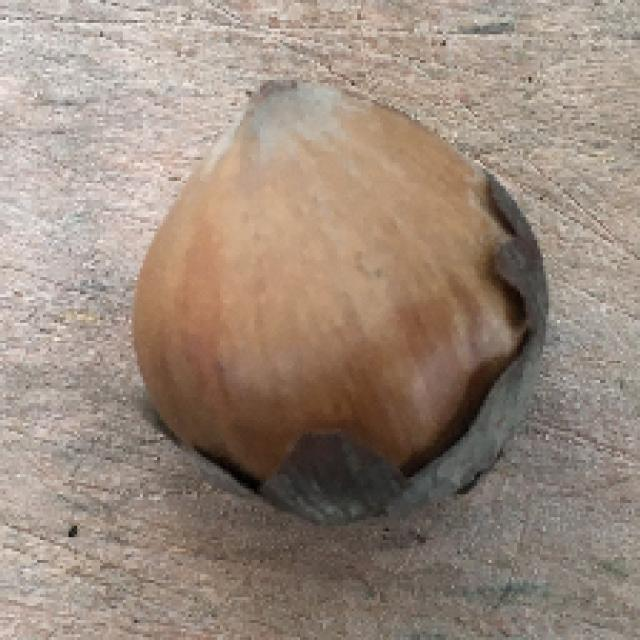damagedHazelnut: (115, 75, 560, 527)
